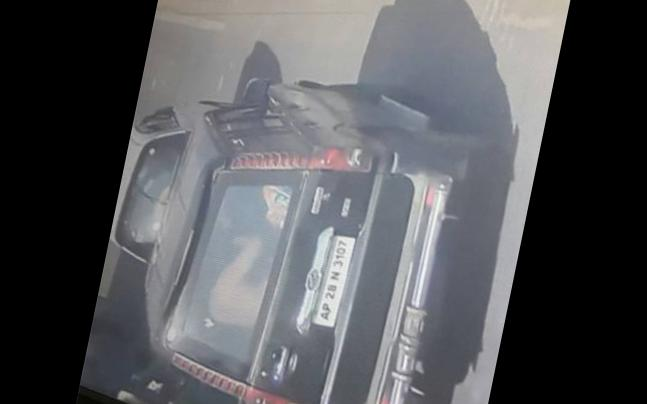plate: (292, 218, 373, 338)
